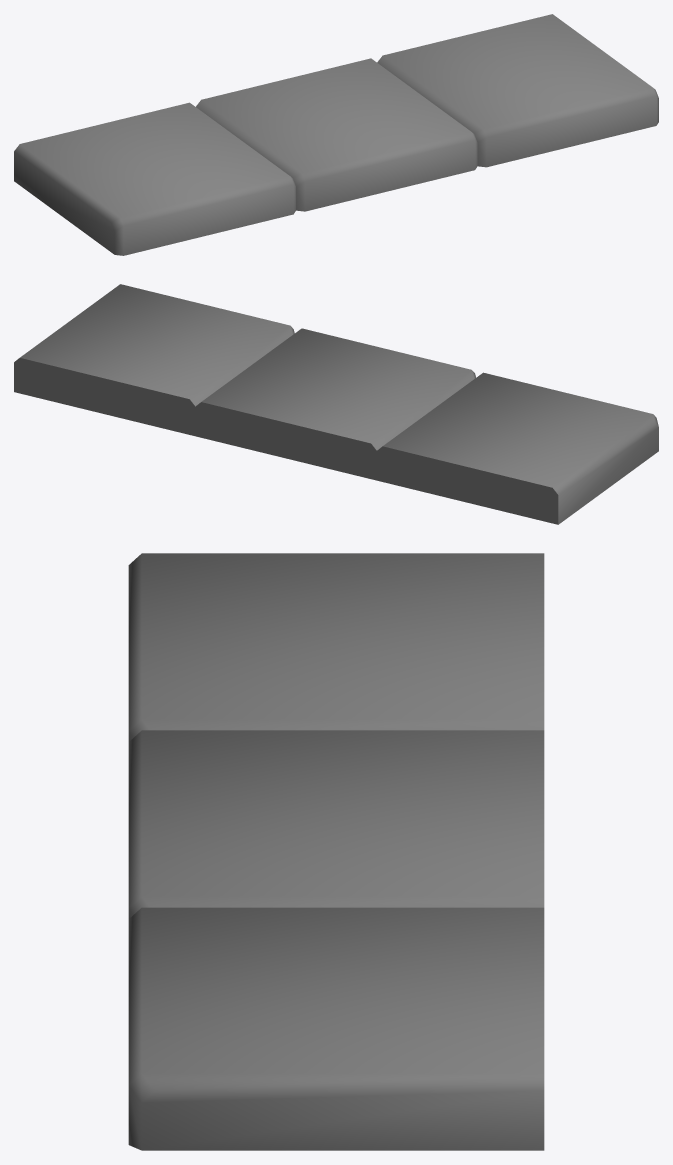
Rendered from Side_walk.fbx.
3 views of the same model, one above another, from view 1: azimuth 30°, elevation 25°; view 2: azimuth 150°, elevation 25°; view 3: azimuth 270°, elevation 25° (orthographic). The views are drawn at different scales.
Visible parts, largest first — view 1: Laboratory_plain.001; view 2: Laboratory_plain.001; view 3: Laboratory_plain.001.
Part boxes in pixels (left/top/right/bottom): Laboratory_plain.001: left=14, top=14, right=658, bottom=255; Laboratory_plain.001: left=14, top=284, right=658, bottom=524; Laboratory_plain.001: left=128, top=553, right=544, bottom=1150.
Bounding box in the file's own units: 4.78 × 0.3 × 1.58.
